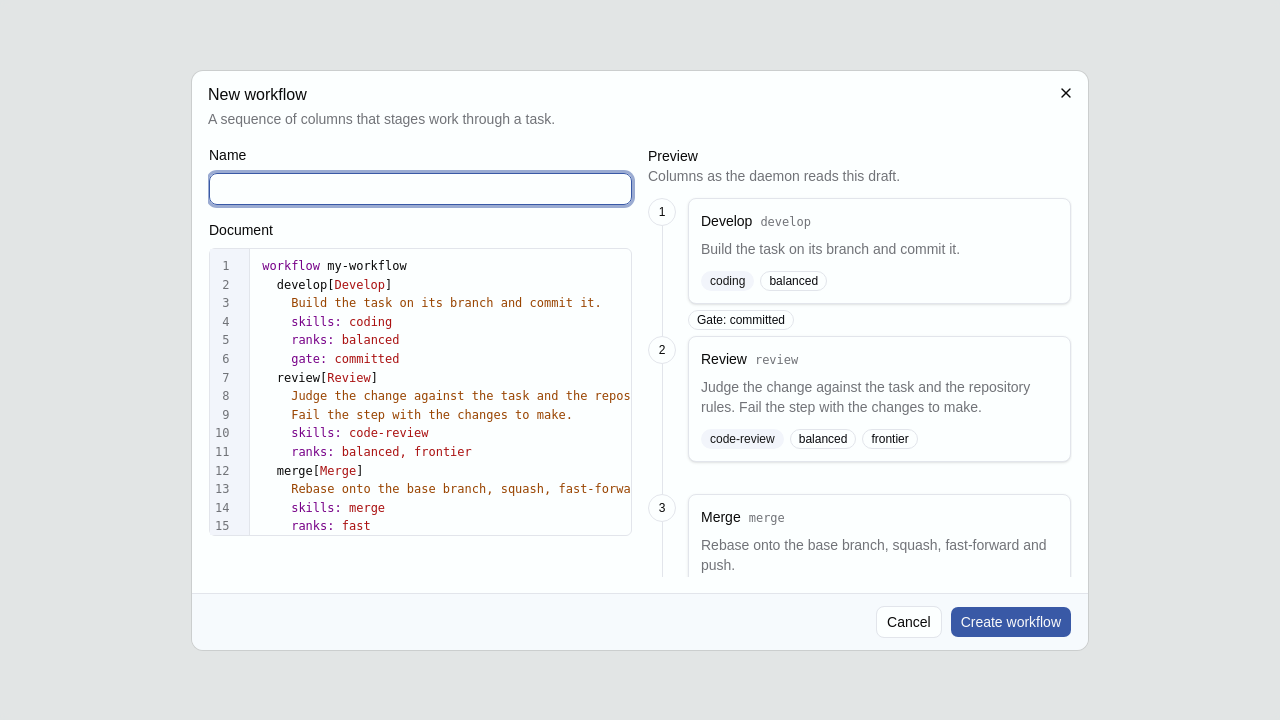
Scenario: the document › follows the name until the document is touched, so nobody types it twice
Type "release-flow" into the field labelled "Name" at (420, 189), box [209,173,632,205]
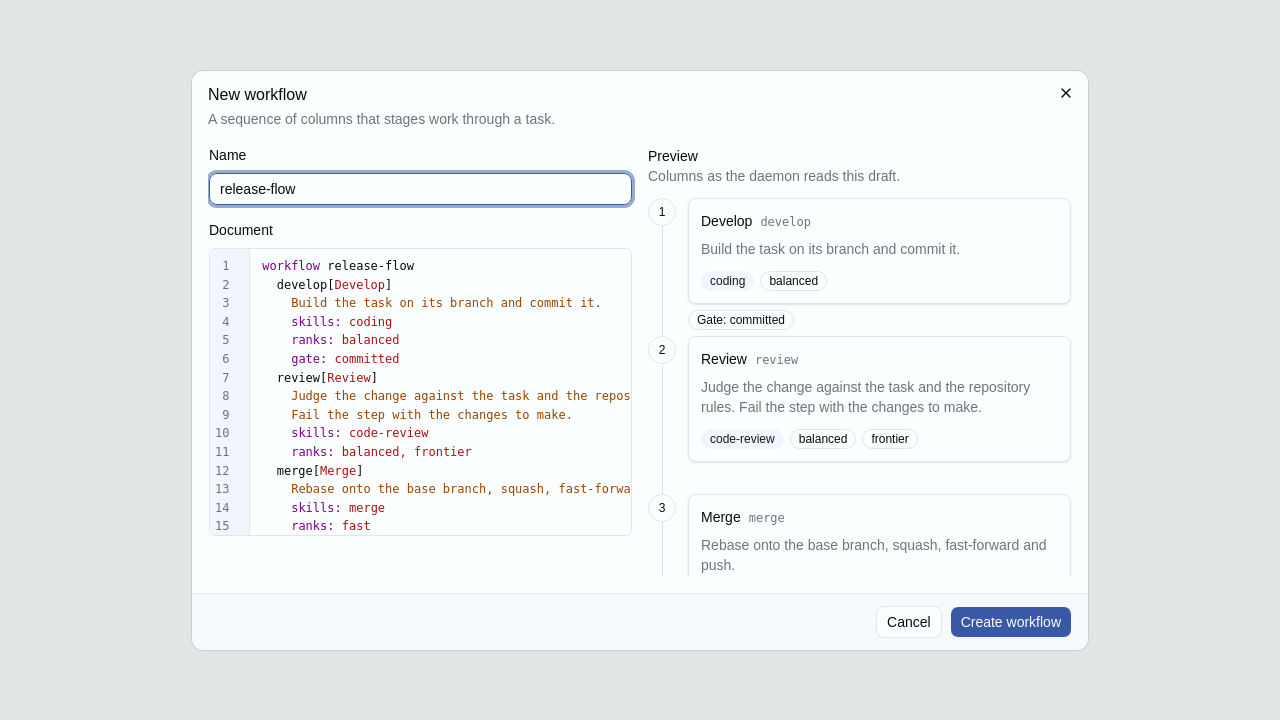
Expected: the field named "Document" shows "workflow release-flow", [250,249,631,535]
